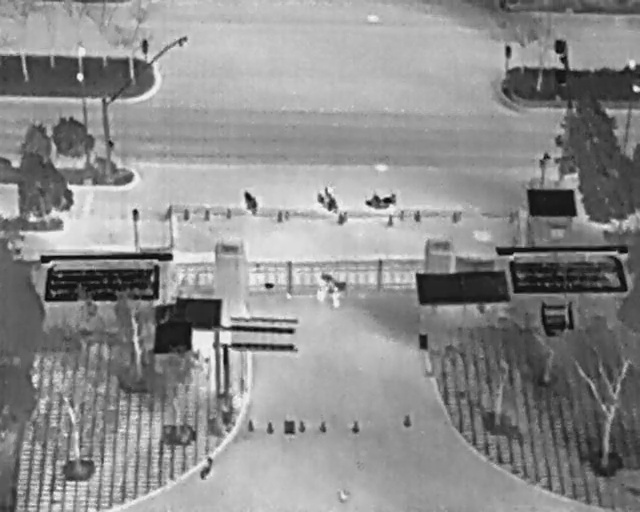Bicycle: (312, 185, 343, 218), (239, 186, 262, 217), (365, 190, 398, 209)
Person: (315, 276, 327, 302), (330, 285, 342, 309)
